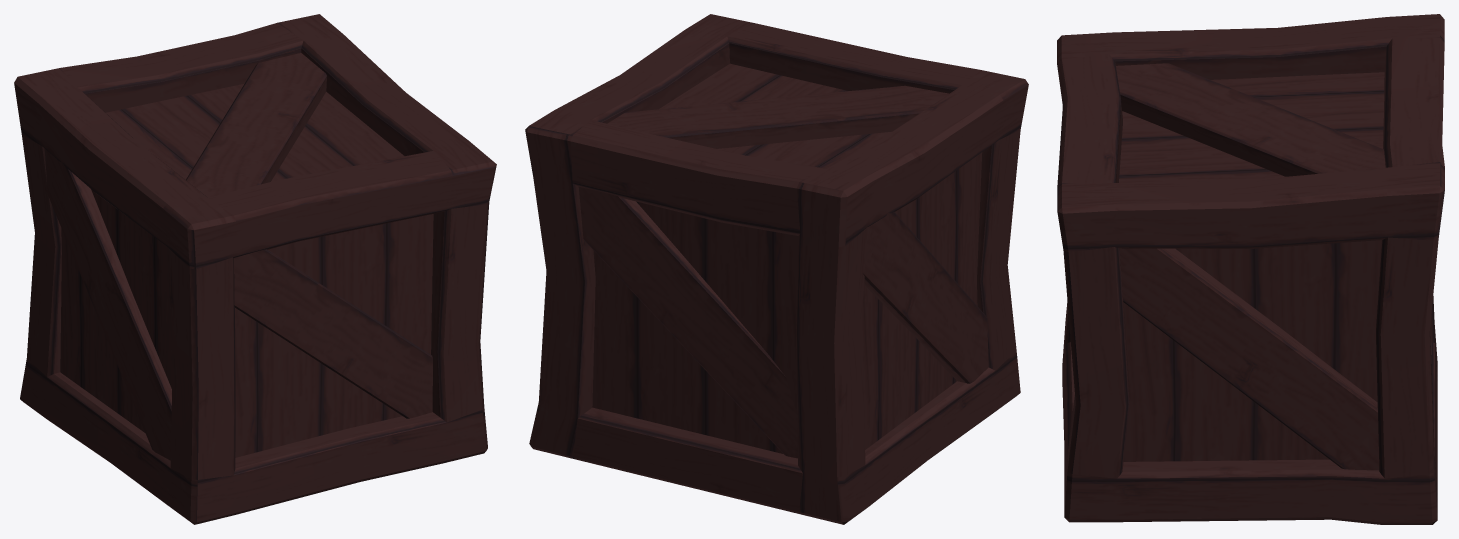
File: PROP_Crate_2.fbx
The picture shows the model from 3 angles, left to right: view 1: azimuth 30°, elevation 25°; view 2: azimuth 150°, elevation 25°; view 3: azimuth 270°, elevation 25°; orthographic projection. The views are drawn at different scales.
Visible parts, largest first — view 1: PROP_Crate_2; view 2: PROP_Crate_2; view 3: PROP_Crate_2.
Part boxes in pixels (x1,y1,x2,y2): PROP_Crate_2: (14,14,496,524); PROP_Crate_2: (525,14,1028,524); PROP_Crate_2: (1057,14,1444,524).
Bounding box in the file's own units: 127 × 127 × 127.
1 material, 1 textured.
